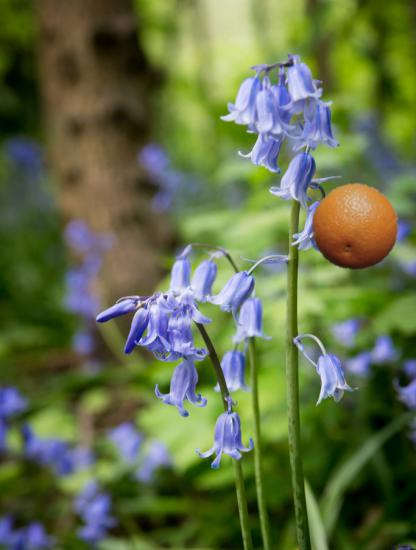Orange: (309, 182, 399, 272)
